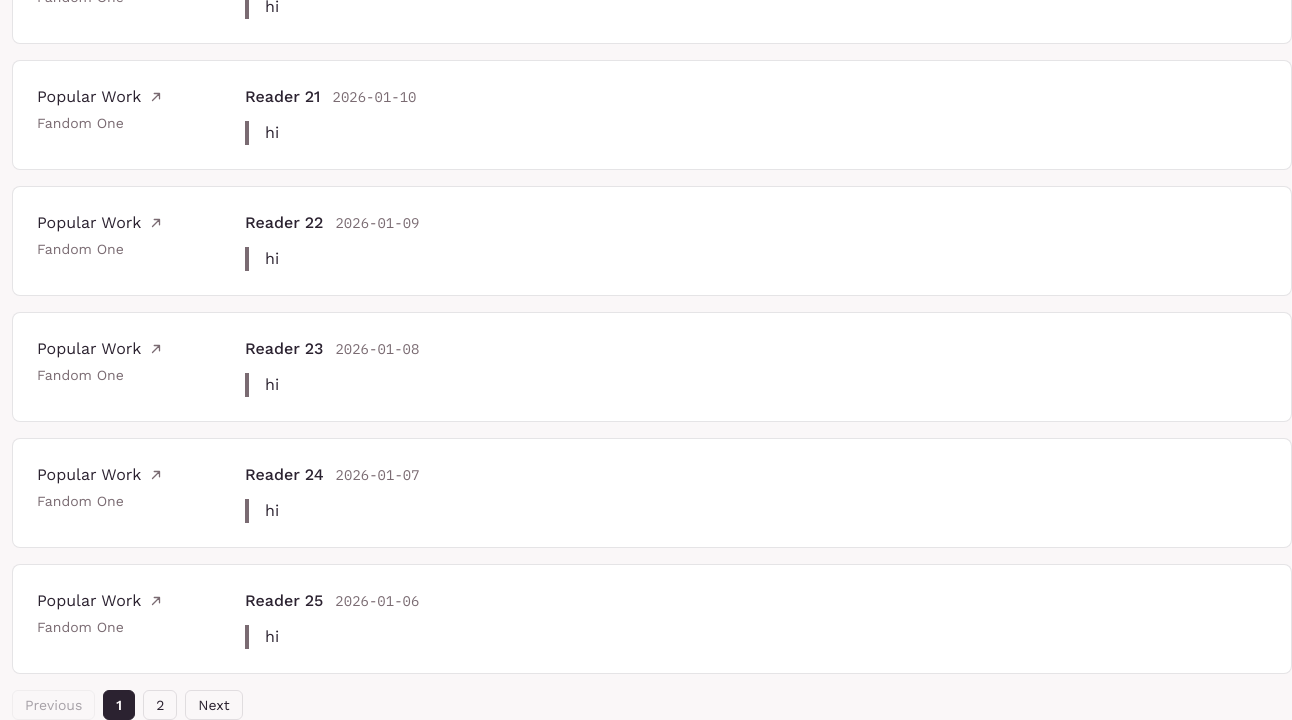
Test: BookmarkFeed pagination › navigates to the second page's slice via the numbered page button
(page scrolled)
Click the button "2": (160, 705) [143,690,177,719]
(page scrolled)
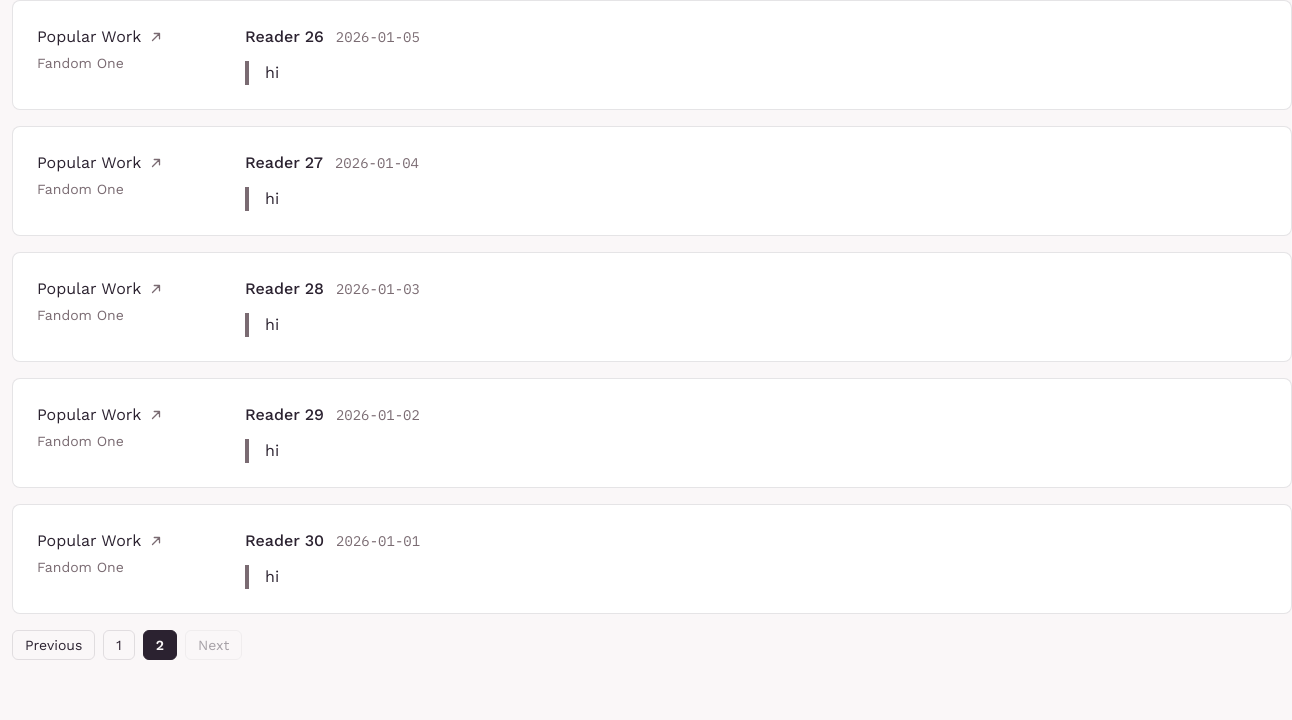
Result: the number of list items is 5 at [12,0,1291,110]; [12,126,1291,236]; [12,252,1291,362]; [12,378,1291,488]; [12,504,1291,614]
Result: the text "Reader 26" is shown at [245,25,324,49]
